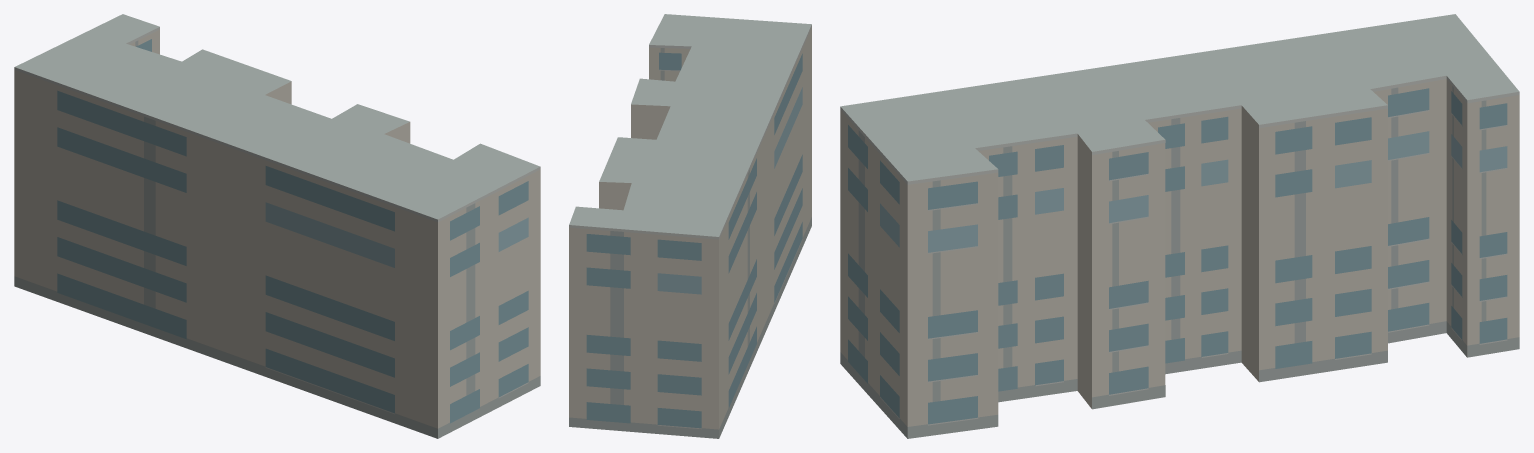
The model's file is survey-upis-32863103.glb.
3 renders of one model, left to right at view 1: azimuth 30°, elevation 25°; view 2: azimuth 150°, elevation 25°; view 3: azimuth 270°, elevation 25°, orthographic. The views are drawn at different scales.
Parts seen in each view (by area): view 1: survey-upis-32863103.tmp; view 2: survey-upis-32863103.tmp; view 3: survey-upis-32863103.tmp.
Boxes of the visible parts, x1,y1,x2,y2 form: survey-upis-32863103.tmp: (14, 14, 540, 438); survey-upis-32863103.tmp: (569, 14, 811, 438); survey-upis-32863103.tmp: (840, 14, 1519, 438).
Size of the model in its own units: 26.57 by 19.03 by 45.52.
